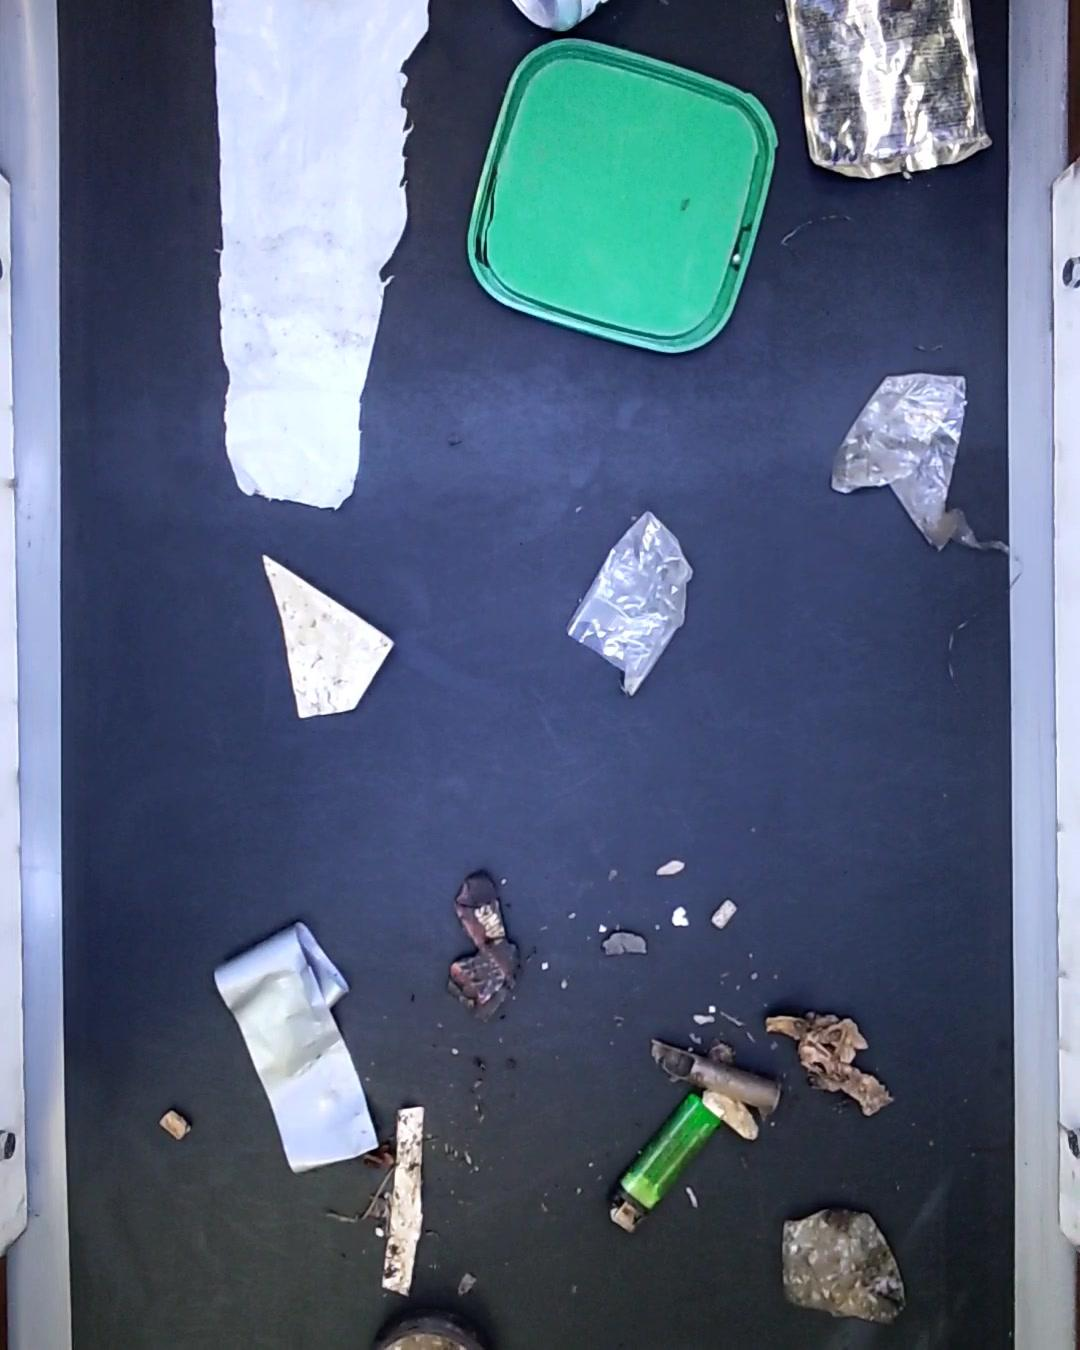Drankblikjes: (506, 0, 612, 35)
Plastic folies of stukken daarvan 2.5- 50 cm: (208, 0, 429, 517), (831, 367, 1025, 688), (571, 512, 695, 703), (778, 1206, 907, 1324)
